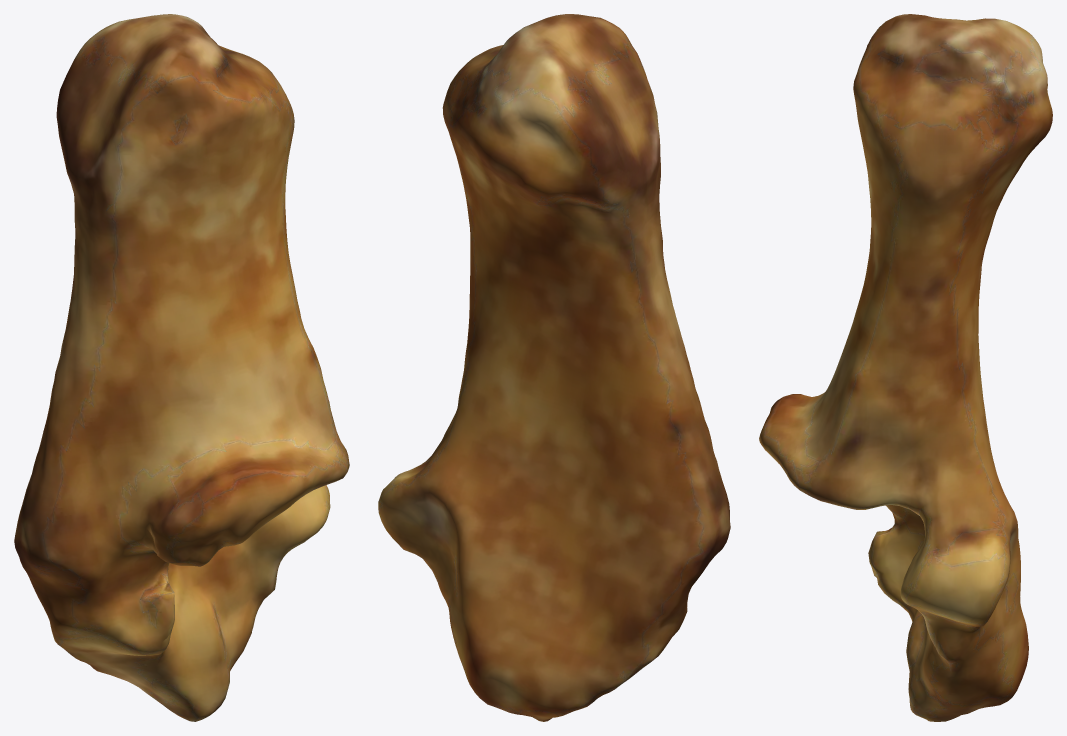
File: calcaneus.glb
3 renders of one model, left to right at view 1: azimuth 30°, elevation 25°; view 2: azimuth 150°, elevation 25°; view 3: azimuth 270°, elevation 25°, orthographic.
Parts seen in each view (by area): view 1: Alpaca Calcaneus L.; view 2: Alpaca Calcaneus L.; view 3: Alpaca Calcaneus L..
Boxes of the visible parts, x1,y1,x2,y2 form: Alpaca Calcaneus L.: [14, 14, 349, 721]; Alpaca Calcaneus L.: [378, 14, 730, 721]; Alpaca Calcaneus L.: [759, 14, 1052, 721].
Bounding box in the file's own units: 0.0346 × 0.0728 × 0.0279.
1 material, 1 textured.
